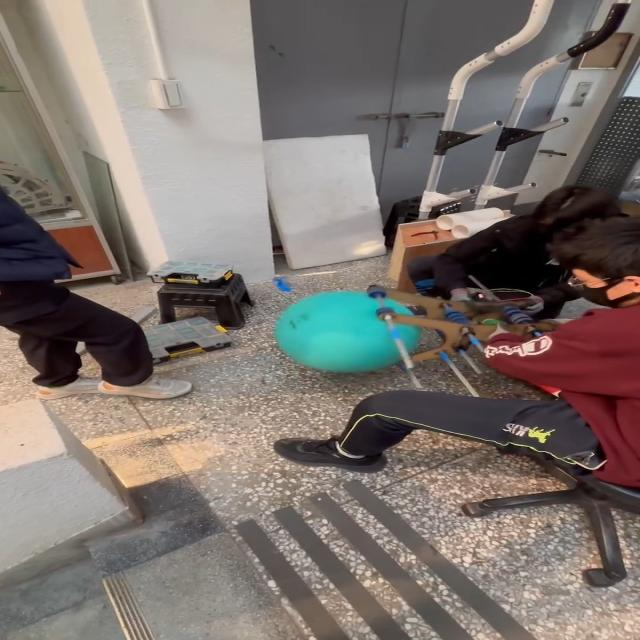ALGAE: (272, 290, 422, 374)
